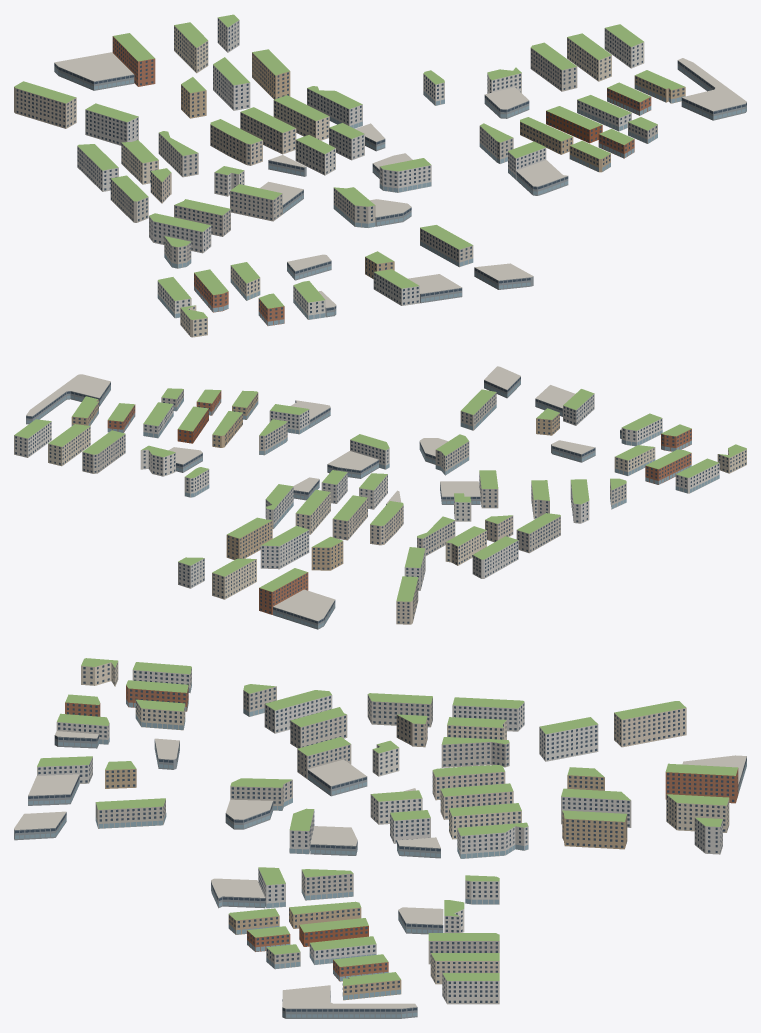
The picture shows the model from 3 angles, top to bottom: view 1: azimuth 30°, elevation 25°; view 2: azimuth 150°, elevation 25°; view 3: azimuth 270°, elevation 25°; orthographic projection. The views are drawn at different scales.
Visible parts, largest first — view 1: S5_P2_wand, S5_P3_wand, S5_P3_dach, S5_P1_wand, S5_P2_dach, S5_P3_fenster, S5_P4_wand, S5_P2_fenster, S5_P4_dach, S5_P1_dach, S5_P4_fenster, S5_P1_fenster; view 2: S5_P2_wand, S5_P3_dach, S5_P3_wand, S5_P1_wand, S5_P2_dach, S5_P4_wand, S5_P2_fenster, S5_P3_fenster, S5_P4_dach, S5_P1_dach, S5_P4_fenster, S5_P1_fenster; view 3: S5_P2_wand, S5_P3_wand, S5_P3_dach, S5_P1_wand, S5_P2_dach, S5_P3_fenster, S5_P4_wand, S5_P2_fenster, S5_P4_dach, S5_P1_dach, S5_P4_fenster, S5_P1_fenster.
Part boxes in pixels (x1=…): S5_P2_wand: x1=77, y1=28, x2=644, y2=222; S5_P3_wand: x1=149, y1=60, x2=746, y2=268; S5_P3_dach: x1=149, y1=58, x2=746, y2=247; S5_P1_wand: x1=14, y1=18, x2=290, y2=145; S5_P2_dach: x1=77, y1=24, x2=643, y2=201; S5_P3_fenster: x1=149, y1=61, x2=746, y2=268; S5_P4_wand: x1=157, y1=228, x2=533, y2=337; S5_P2_fenster: x1=77, y1=29, x2=642, y2=221; S5_P4_dach: x1=157, y1=225, x2=533, y2=319; S5_P1_dach: x1=14, y1=14, x2=289, y2=122; S5_P4_fenster: x1=157, y1=229, x2=530, y2=335; S5_P1_fenster: x1=16, y1=19, x2=288, y2=144; S5_P2_wand: x1=14, y1=421, x2=560, y2=578; S5_P3_dach: x1=26, y1=374, x2=626, y2=504; S5_P3_wand: x1=26, y1=382, x2=626, y2=523; S5_P1_wand: x1=178, y1=520, x2=425, y2=629; S5_P2_dach: x1=14, y1=419, x2=560, y2=559; S5_P4_wand: x1=460, y1=376, x2=746, y2=493; S5_P2_fenster: x1=15, y1=422, x2=560, y2=577; S5_P3_fenster: x1=26, y1=383, x2=626, y2=522; S5_P4_dach: x1=461, y1=366, x2=746, y2=477; S5_P1_dach: x1=178, y1=517, x2=425, y2=620; S5_P4_fenster: x1=460, y1=377, x2=746, y2=493; S5_P1_fenster: x1=179, y1=521, x2=424, y2=628; S5_P2_wand: x1=367, y1=694, x2=528, y2=1004; S5_P3_wand: x1=211, y1=686, x2=417, y2=1018; S5_P3_dach: x1=211, y1=684, x2=417, y2=1008; S5_P1_wand: x1=539, y1=708, x2=746, y2=854; S5_P2_dach: x1=368, y1=693, x2=528, y2=980; S5_P3_fenster: x1=211, y1=687, x2=417, y2=1017; S5_P4_wand: x1=14, y1=661, x2=191, y2=840; S5_P2_fenster: x1=368, y1=696, x2=528, y2=1002; S5_P4_dach: x1=14, y1=658, x2=191, y2=829; S5_P1_dach: x1=540, y1=701, x2=746, y2=826; S5_P4_fenster: x1=15, y1=663, x2=191, y2=838; S5_P1_fenster: x1=540, y1=709, x2=746, y2=852.
Bounding box in the file's own units: 525 × 19.7 × 476.
